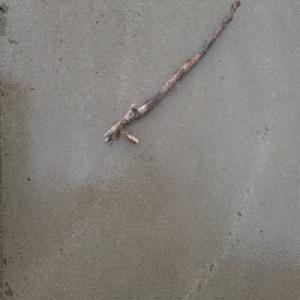Wood: (103, 0, 241, 146)
